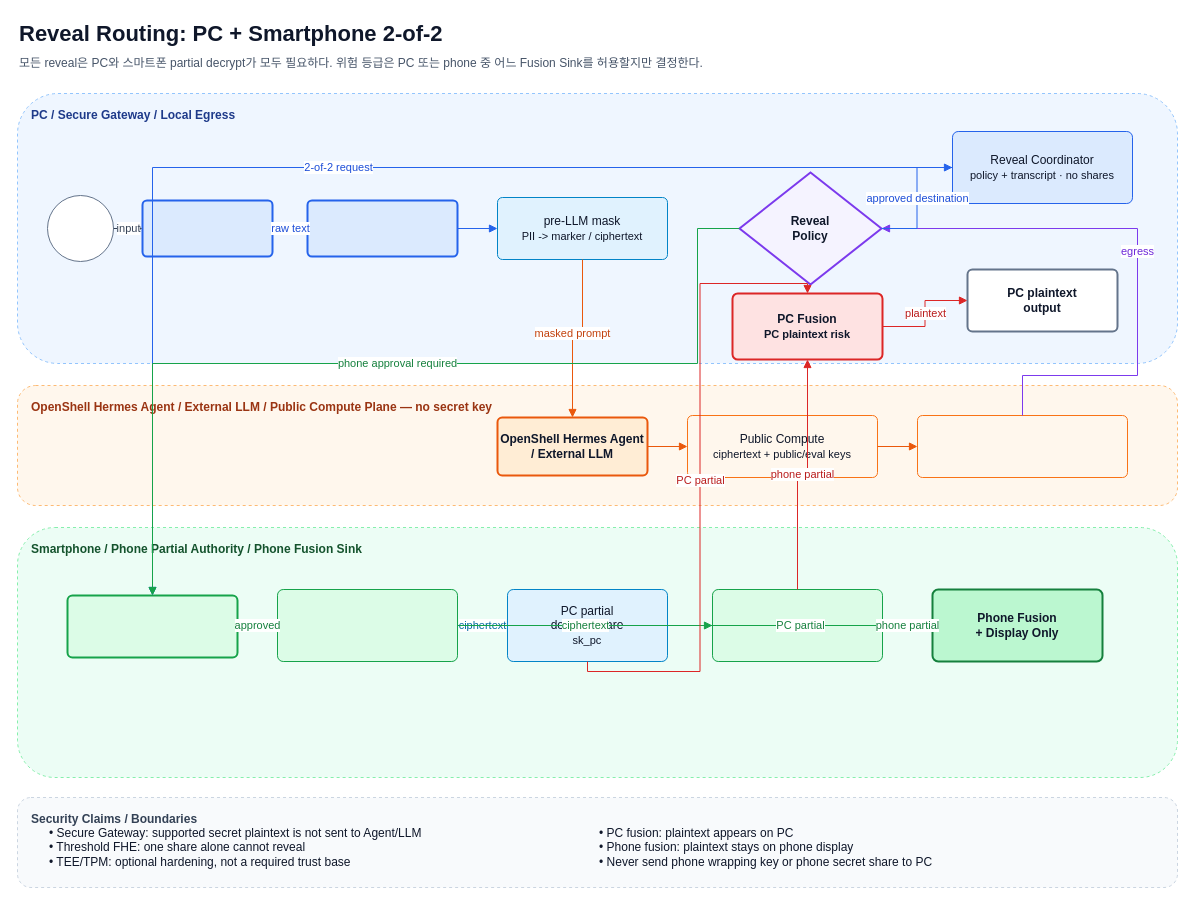
Some shapes in this 1195 by 905 pixel diagram are drawn without their labels. Each missing label, with the centre of its shape:
PC TUI / GUI: the point at 207,228
Phone partial decrypt share sk_phone: the point at 797,625
Secure Gateway: the point at 382,228
Smartphone User Approval mandatory: the point at 152,626
Threshold Reveal Request purpose / destination / nonce: the point at 367,625
unresolved response computed result handle only: the point at 1022,446
사용자: the point at 80,228
